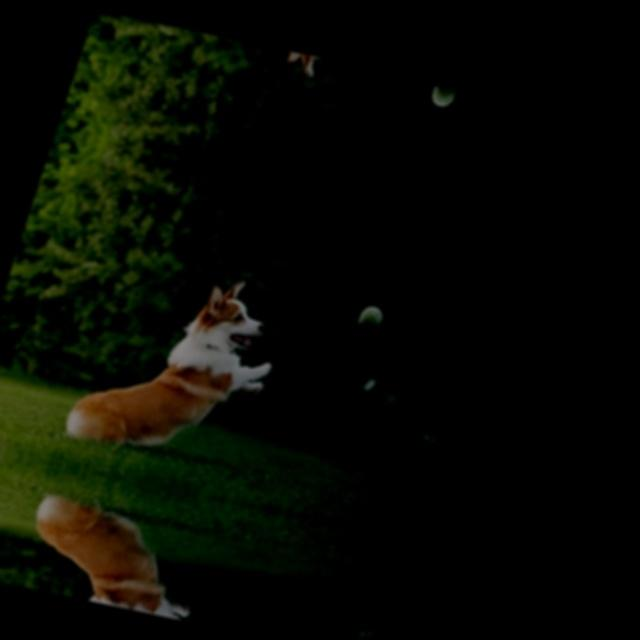dog: (178, 266, 290, 361), (266, 48, 361, 90)
